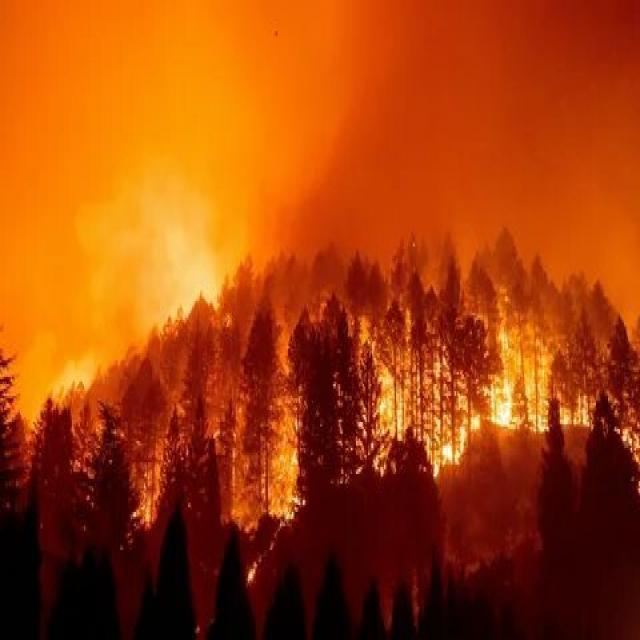Fire: (393, 356, 640, 481)
Smoke: (26, 0, 640, 259)
